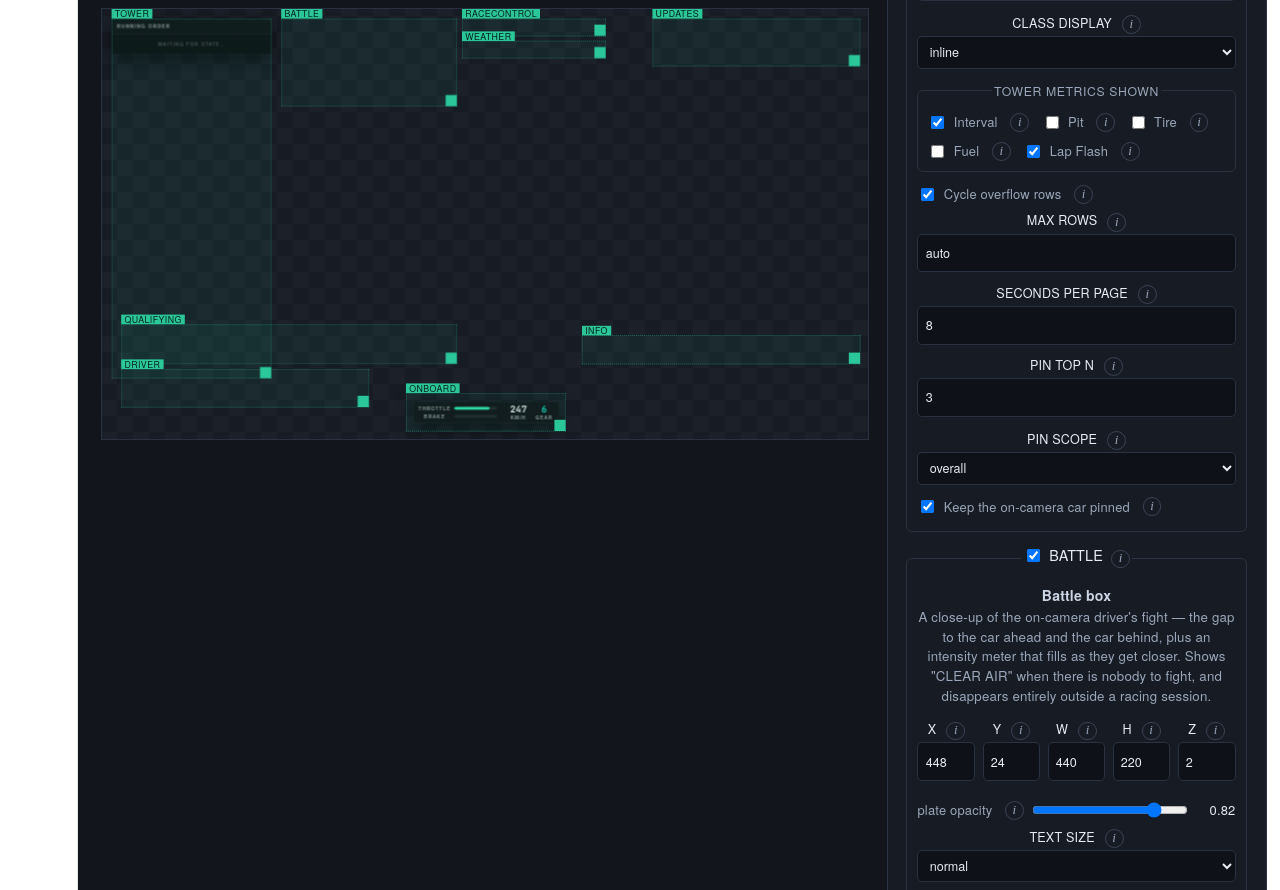
it: config editor: help popovers › closes on Escape
(page scrolled)
Click the button with test id "help-pin-scope-tower" at (1117, 440), box [1107, 431, 1126, 450]
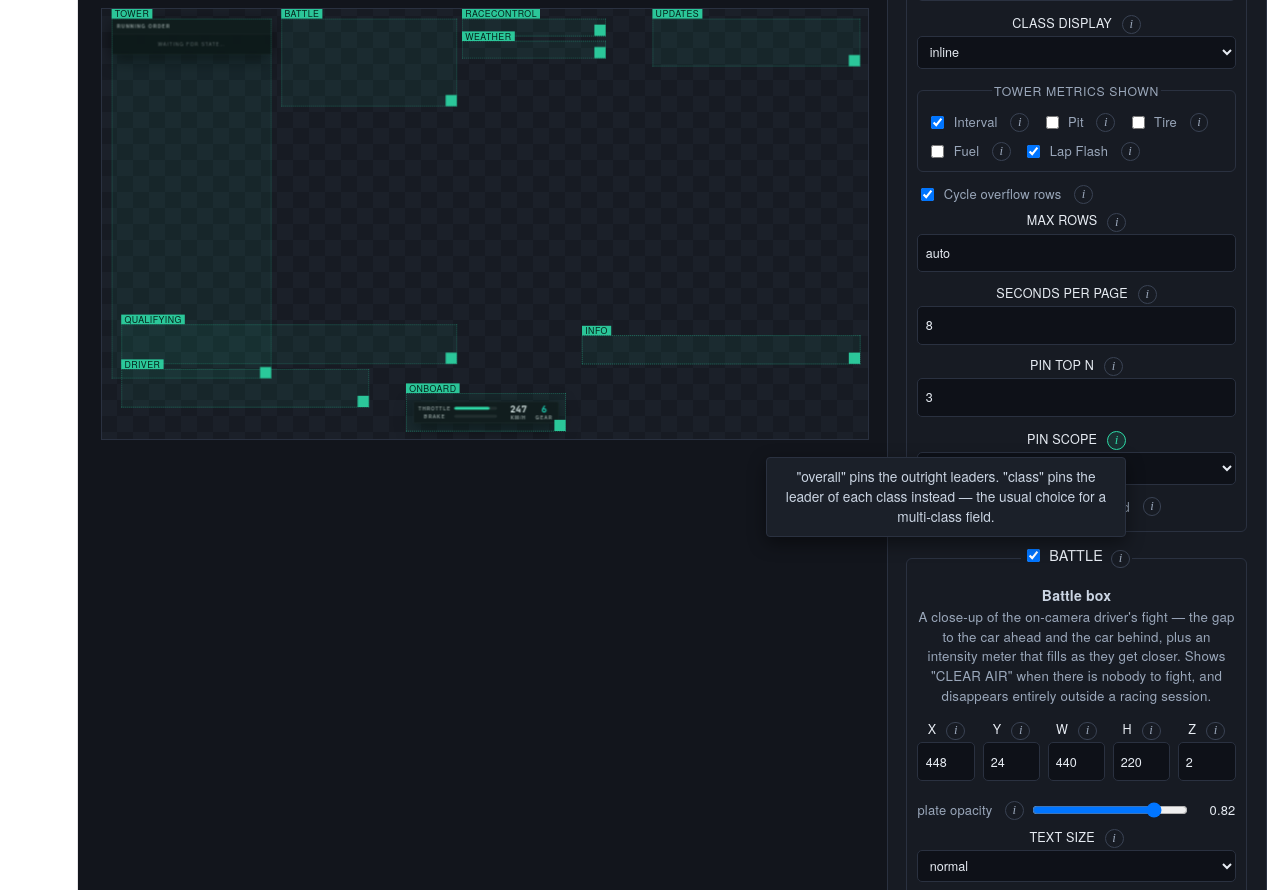
Now the tooltip with test id "help-pin-scope-tower-text" is shown, box [766, 457, 1126, 537]
Press Escape
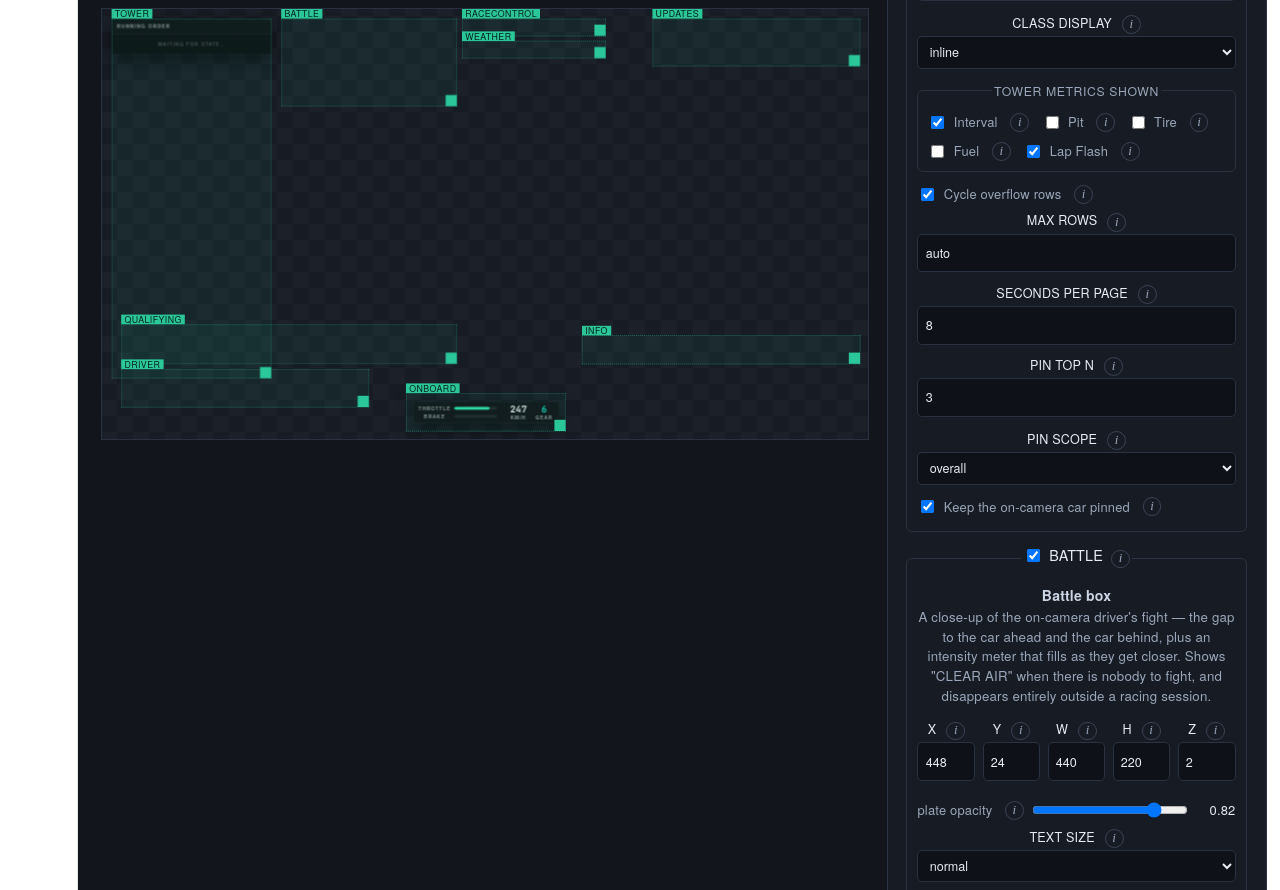
Now the tooltip with test id "help-pin-scope-tower-text" is gone
